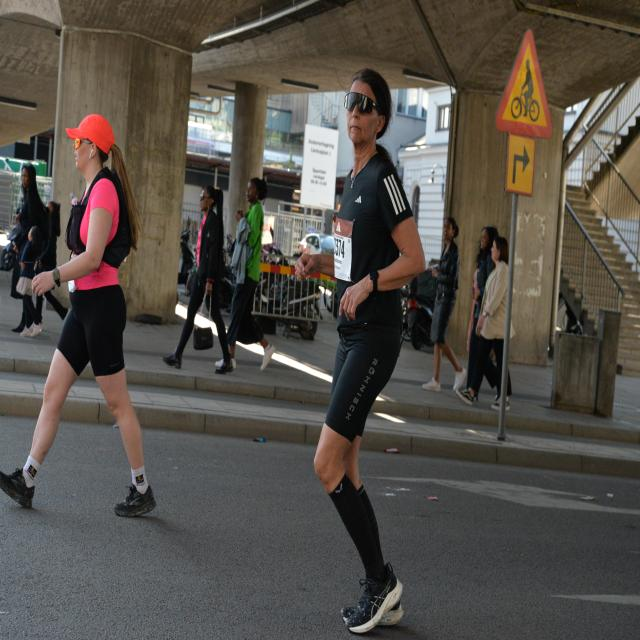runner-detect: (294, 58, 423, 637), (5, 105, 169, 531)
